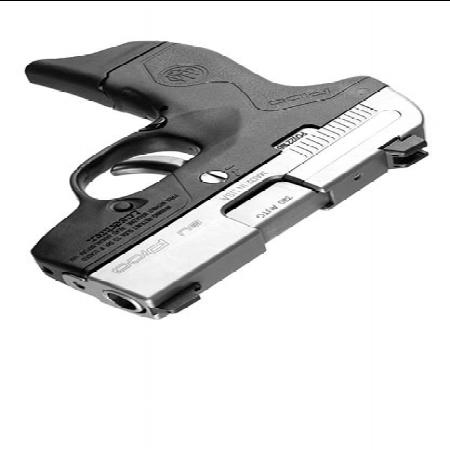Pistol: (26, 17, 438, 317)
